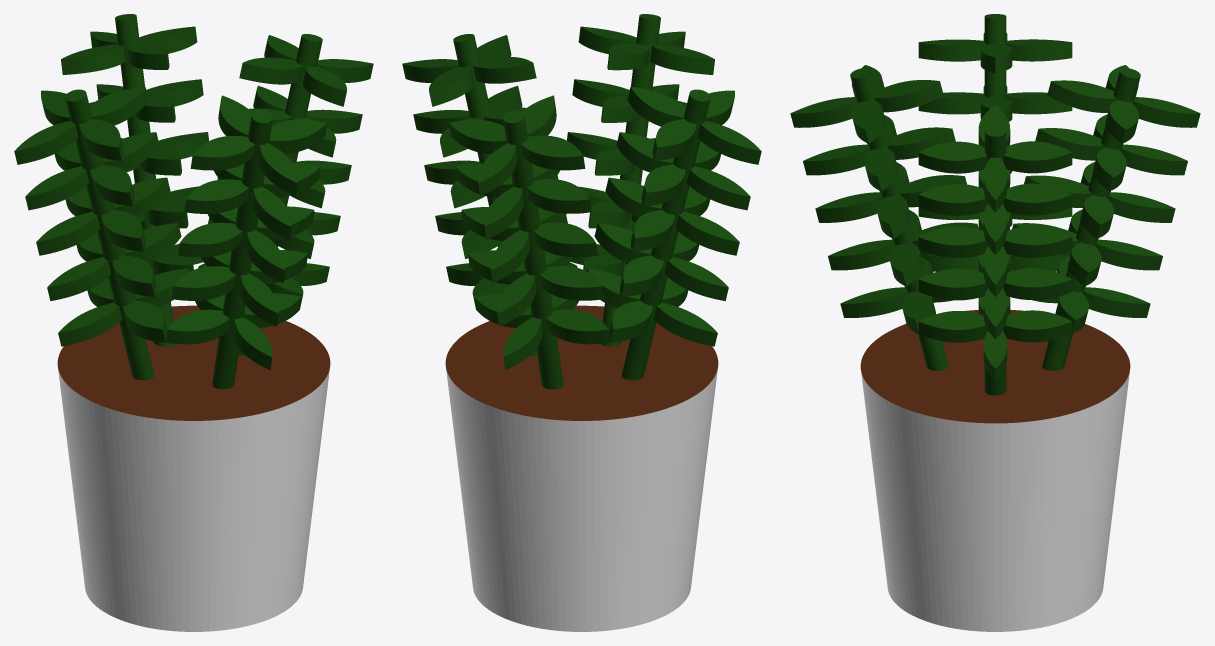
Rendered from fragile_plant.glb.
3 renders of one model, left to right at view 1: azimuth 30°, elevation 25°; view 2: azimuth 150°, elevation 25°; view 3: azimuth 270°, elevation 25°, orthographic.
Parts seen in each view (by area): view 1: FragilePlant; view 2: FragilePlant; view 3: FragilePlant.
Boxes of the visible parts, x1,y1,x2,y2 form: FragilePlant: (14, 14, 373, 631); FragilePlant: (402, 14, 761, 631); FragilePlant: (790, 14, 1200, 631).
Size of the model in its own units: 0.0863 by 0.1197 by 0.0863.
